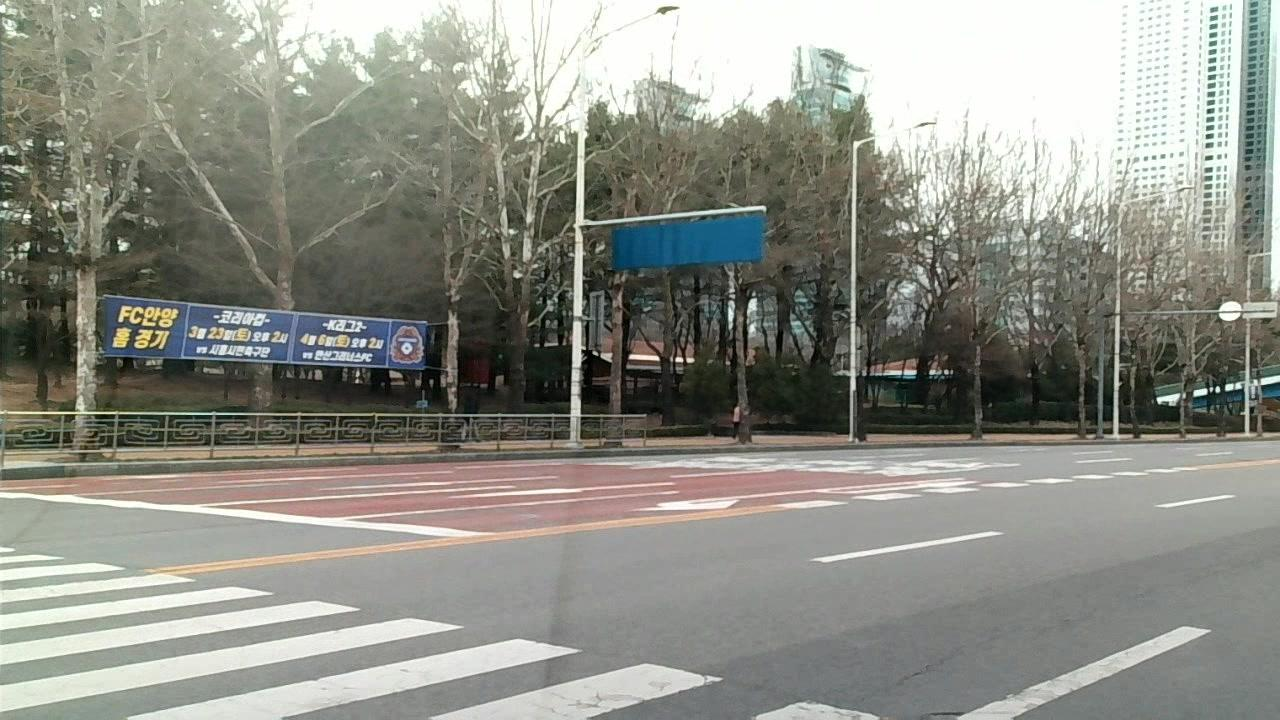banner: (103, 293, 426, 373), (920, 706, 981, 720)
